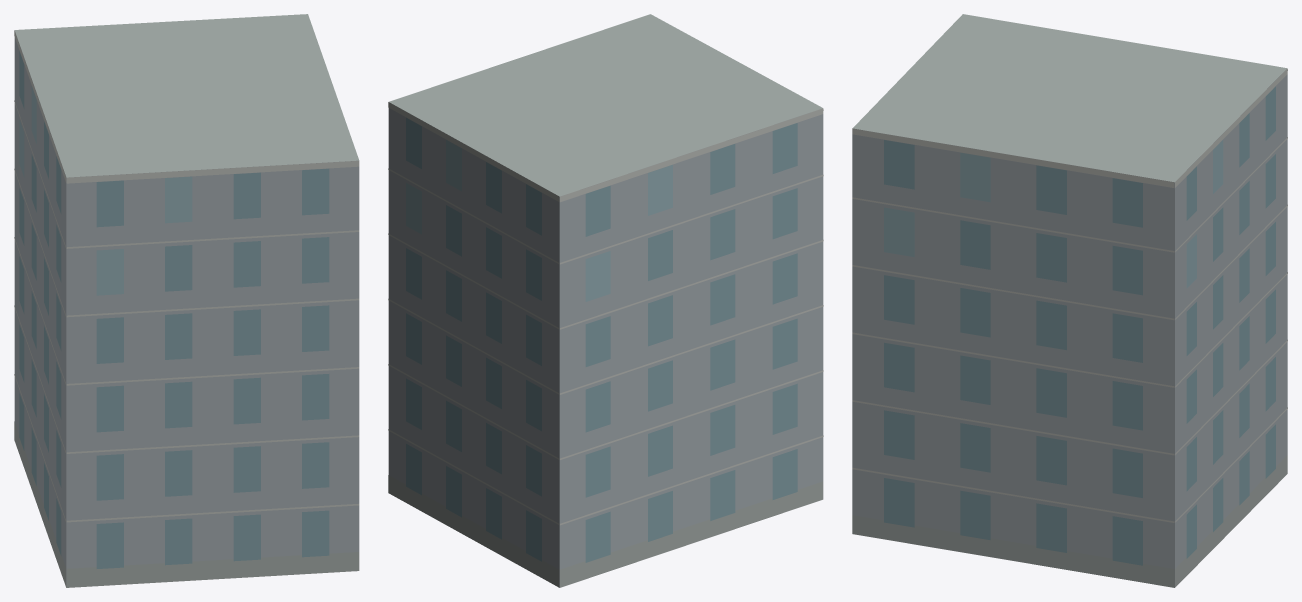
File: survey-upis-32667120.glb
3 renders of one model, left to right at view 1: azimuth 30°, elevation 25°; view 2: azimuth 150°, elevation 25°; view 3: azimuth 270°, elevation 25°, orthographic. The views are drawn at different scales.
Visible parts, largest first — view 1: survey-upis-32667120.tmp; view 2: survey-upis-32667120.tmp; view 3: survey-upis-32667120.tmp.
Boxes of the visible parts, x1,y1,x2,y2 form: survey-upis-32667120.tmp: (14, 14, 359, 587); survey-upis-32667120.tmp: (388, 14, 823, 587); survey-upis-32667120.tmp: (852, 14, 1287, 587).
Bounding box in the file's own units: 14.7 × 16.5 × 16.06.
